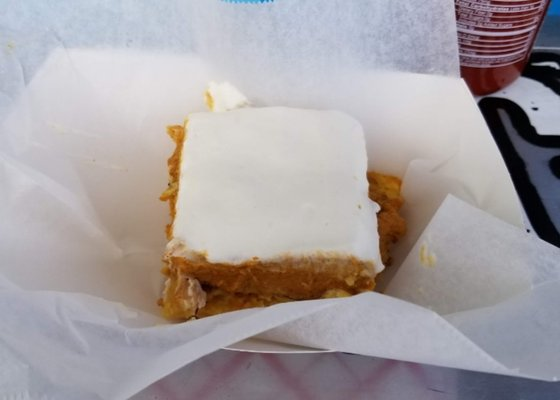soup: (155, 104, 407, 321)
